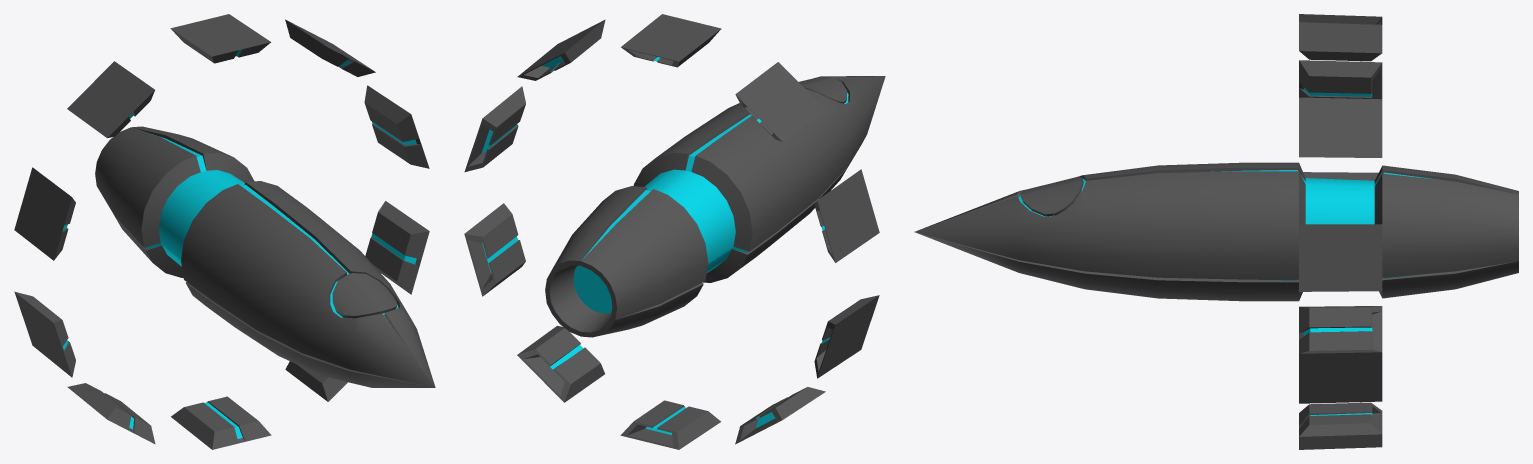
The model's file is Bullet.fbx.
The picture shows the model from 3 angles, left to right: view 1: azimuth 30°, elevation 25°; view 2: azimuth 150°, elevation 25°; view 3: azimuth 270°, elevation 25°; orthographic projection.
Parts seen in each view (by area): view 1: bullet__energy2; view 2: bullet__energy2; view 3: bullet__energy2.
Part boxes in pixels (box(x1,y1,x2,y2)): bullet__energy2: box(14, 14, 435, 449); bullet__energy2: box(464, 14, 885, 449); bullet__energy2: box(914, 14, 1518, 449).
Bounding box in the file's own units: 3.63 × 3.63 × 5.1.
